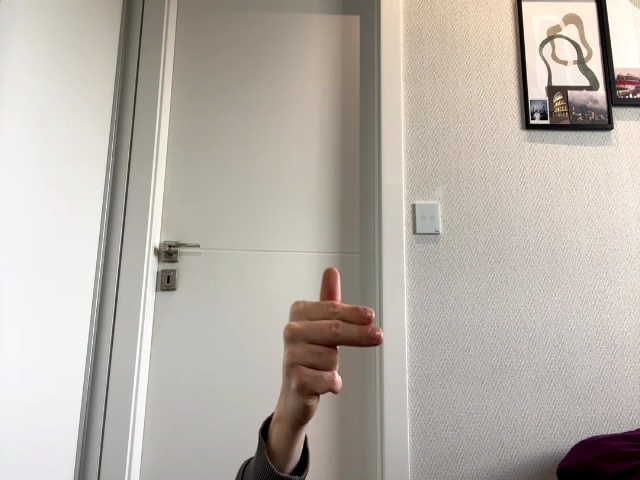N: (283, 267, 383, 410)
